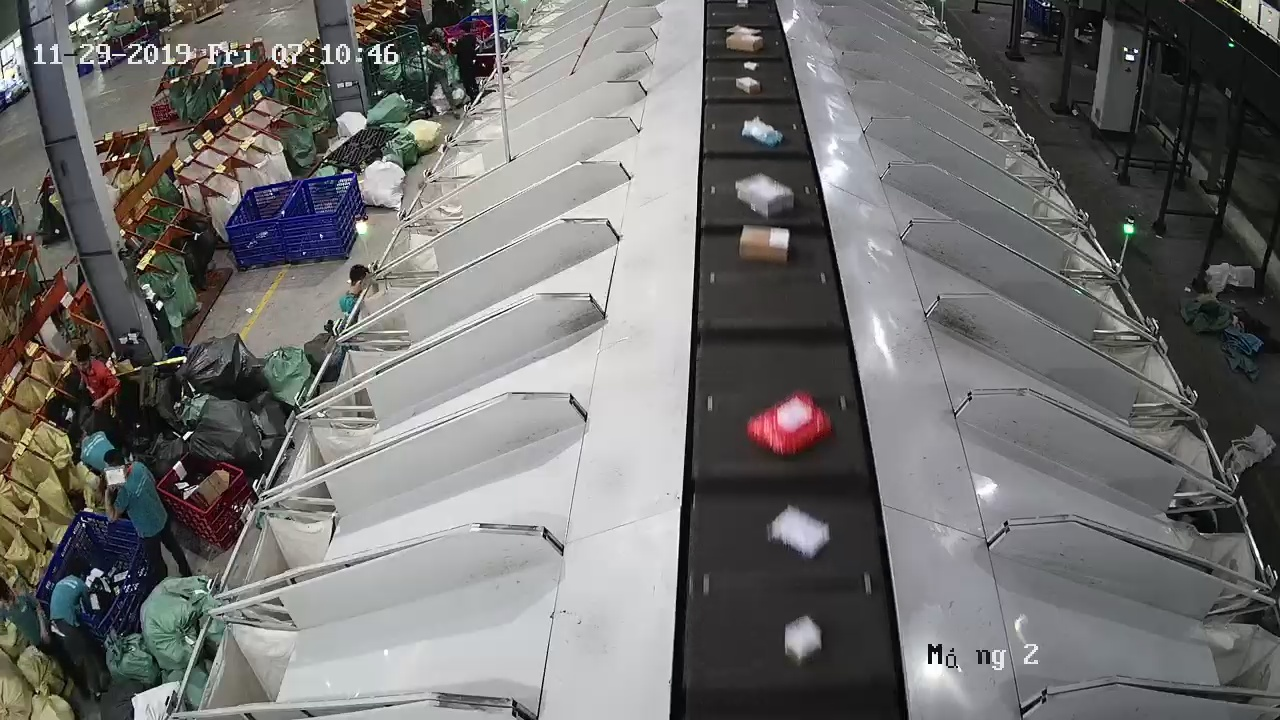parcel: (746, 390, 833, 458), (772, 506, 830, 561), (735, 172, 794, 219), (740, 224, 790, 265), (784, 615, 823, 666), (741, 117, 784, 148)
